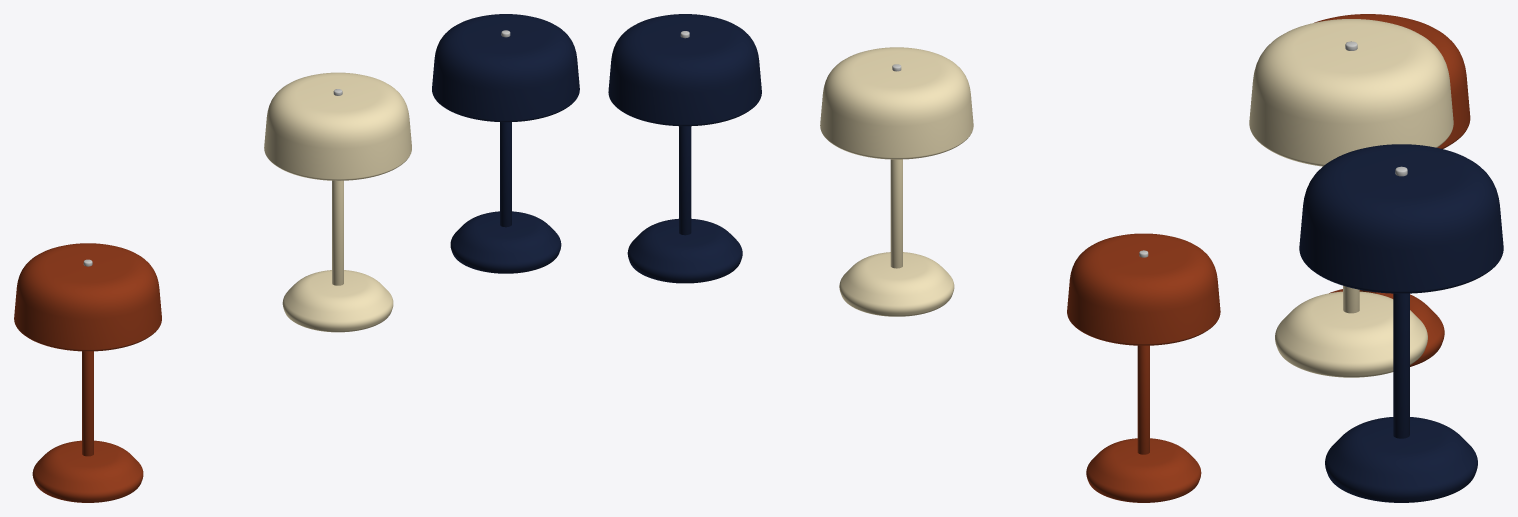
3 renders of one model, left to right at view 1: azimuth 30°, elevation 25°; view 2: azimuth 150°, elevation 25°; view 3: azimuth 270°, elevation 25°, orthographic. The views are drawn at different scales.
Parts seen in each view (by area): view 1: shade_cream, shade_navy, shade_orange, base_cream, base_navy, base_orange, stem_orange, stem_cream, stem_navy; view 2: shade_orange, shade_navy, shade_cream, base_cream, base_orange, base_navy, stem_orange, stem_cream, stem_navy; view 3: shade_navy, shade_cream, base_navy, base_cream, shade_orange, stem_navy, base_orange, stem_cream.
Part boxes in pixels (left/top/right/bottom): shade_cream: left=264, top=72, right=411, bottom=180; shade_navy: left=432, top=14, right=579, bottom=122; shade_orange: left=14, top=243, right=161, bottom=351; base_cream: left=282, top=270, right=393, bottom=332; base_navy: left=450, top=211, right=561, bottom=273; base_orange: left=32, top=440, right=143, bottom=502; stem_orange: left=82, top=351, right=93, bottom=456; stem_cream: left=332, top=180, right=343, bottom=285; stem_navy: left=500, top=122, right=511, bottom=227; shade_orange: left=1067, top=233, right=1220, bottom=345; shade_navy: left=608, top=14, right=761, bottom=126; shade_cream: left=820, top=47, right=973, bottom=159; base_cream: left=839, top=252, right=954, bottom=316; base_orange: left=1086, top=438, right=1201, bottom=502; base_navy: left=627, top=218, right=742, bottom=283; stem_orange: left=1137, top=345, right=1149, bottom=454; stem_cream: left=890, top=159, right=902, bottom=268; stem_navy: left=679, top=126, right=691, bottom=235; shade_navy: left=1299, top=144, right=1503, bottom=293; shade_cream: left=1249, top=19, right=1453, bottom=166; base_navy: left=1325, top=417, right=1477, bottom=502; base_cream: left=1275, top=291, right=1427, bottom=377; shade_orange: left=1314, top=14, right=1470, bottom=148; stem_navy: left=1393, top=293, right=1409, bottom=438; base_orange: left=1329, top=289, right=1444, bottom=366; stem_cream: left=1343, top=285, right=1359, bottom=313.
Size of the model in its own units: 0.9605 by 0.5524 by 0.2745.
